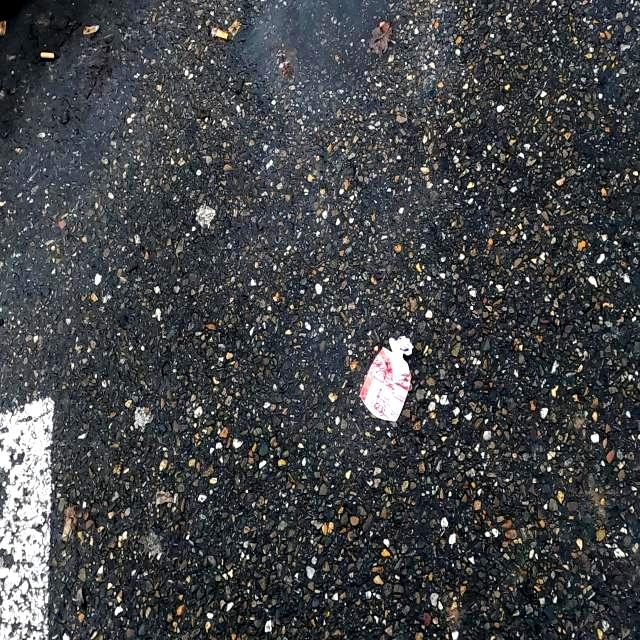Metal: (358, 332, 414, 424)
